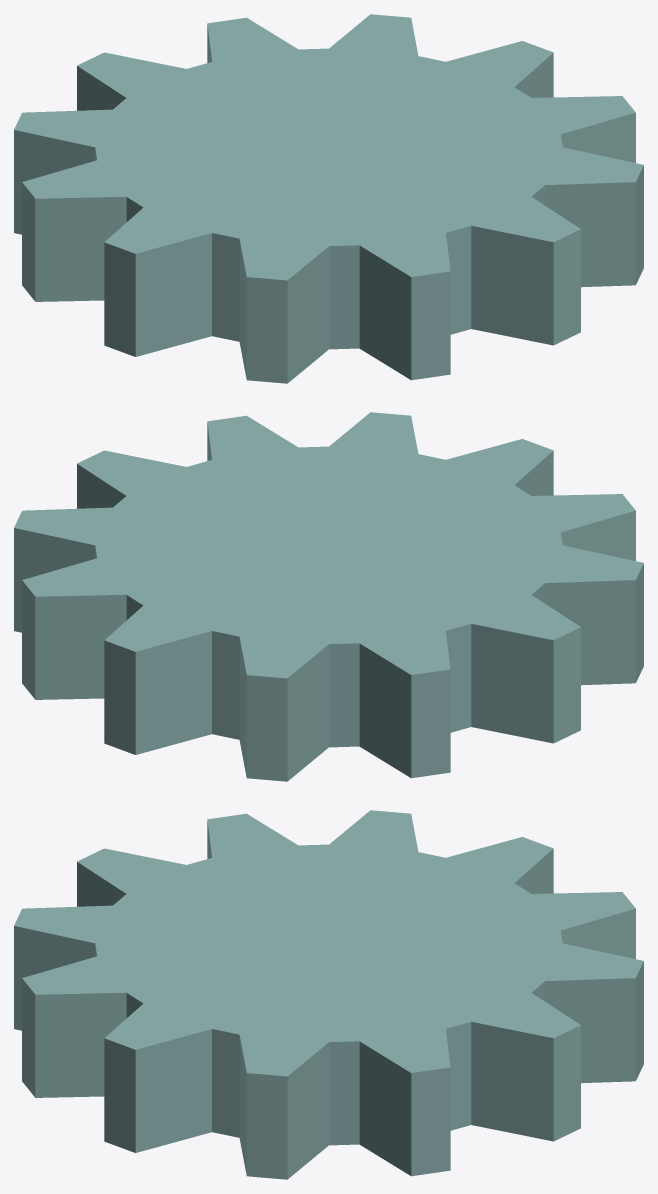
Rendered from ground-truth.glb.
3 views of the same model, one above another, from view 1: azimuth 30°, elevation 25°; view 2: azimuth 150°, elevation 25°; view 3: azimuth 270°, elevation 25° (orthographic).
Visible parts, largest first — view 1: original_00; view 2: original_00; view 3: original_00.
Part boxes in pixels (x1,y1,x2,y2): original_00: (14,14,643,383); original_00: (14,412,643,781); original_00: (14,810,643,1179).
Size of the model in its own units: 2.1 by 0.38 by 2.1.
